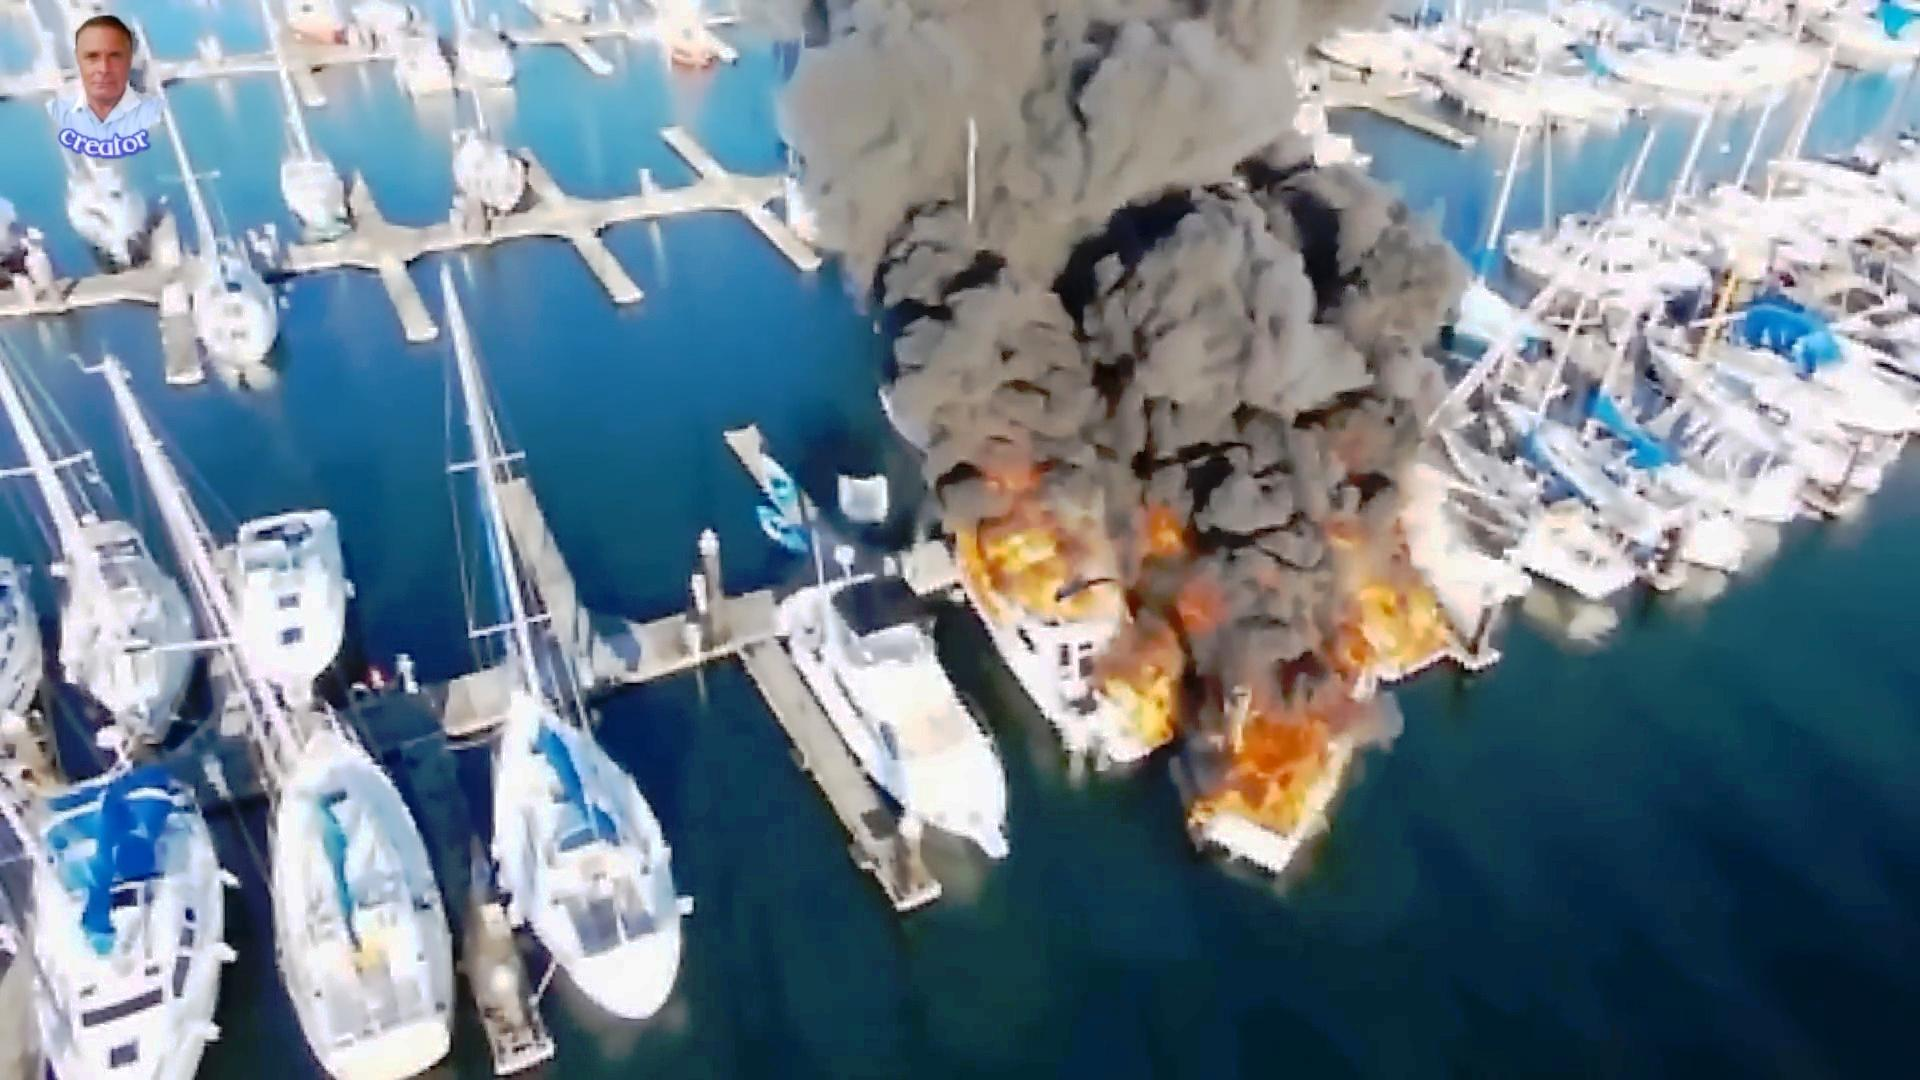fire: (951, 501, 1113, 645), (1345, 566, 1465, 678), (1225, 716, 1342, 819)
smoke: (898, 153, 1445, 456), (843, 0, 1263, 233), (1205, 363, 1313, 663)
